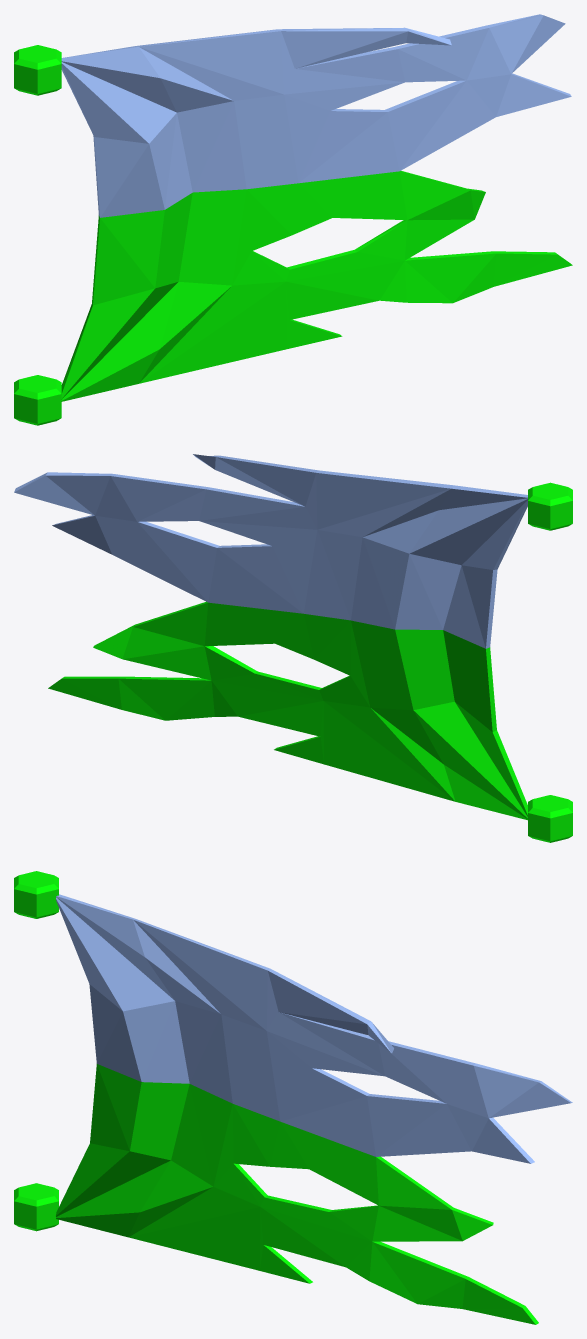
The model's file is SM_Flag_Regular_D_Broken_Fantasy.fbx.
The picture shows the model from 3 angles, top to bottom: view 1: azimuth 30°, elevation 25°; view 2: azimuth 150°, elevation 25°; view 3: azimuth 330°, elevation 25°; orthographic projection. The views are drawn at different scales.
Parts seen in each view (by area): view 1: flag-regular-d-broken-fantasy; view 2: flag-regular-d-broken-fantasy; view 3: flag-regular-d-broken-fantasy.
Part boxes in pixels (x1=…): flag-regular-d-broken-fantasy: x1=14, y1=14, x2=572, y2=425; flag-regular-d-broken-fantasy: x1=14, y1=454, x2=572, y2=842; flag-regular-d-broken-fantasy: x1=14, y1=871, x2=572, y2=1324.
Bounding box in the file's own units: 1.08 × 0.6531 × 0.1333.
